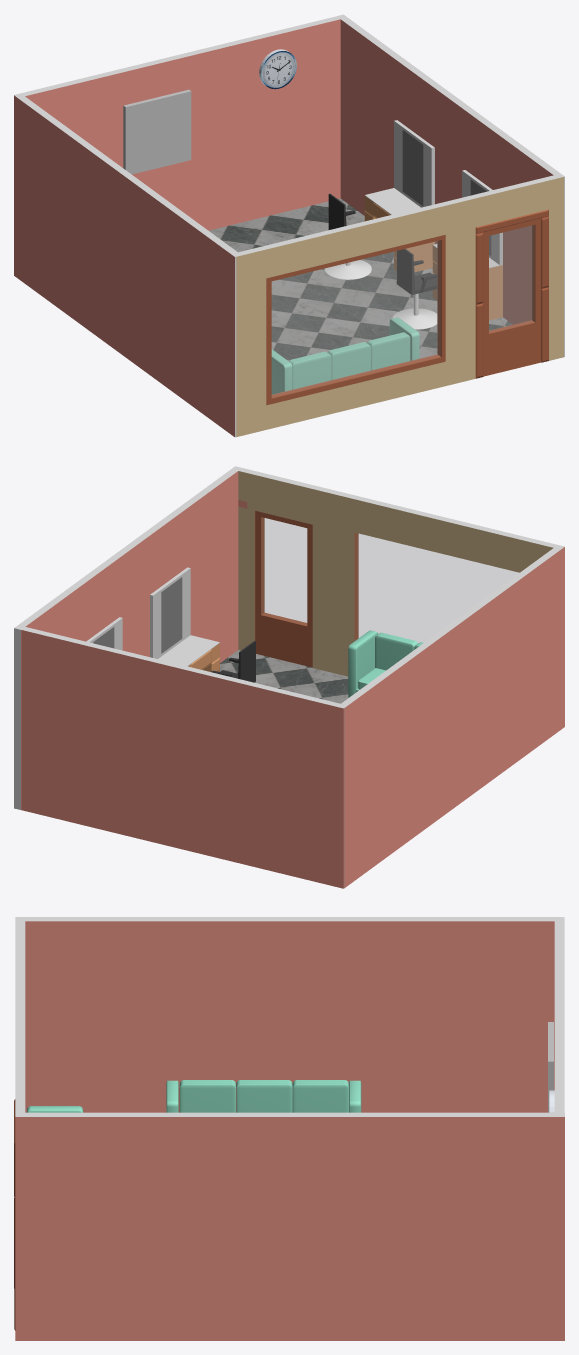
The model's file is Barber-ENV.fbx.
3 views of the same model, one above another, from view 1: azimuth 30°, elevation 25°; view 2: azimuth 150°, elevation 25°; view 3: azimuth 270°, elevation 25° (orthographic). The views are drawn at different scales.
Parts seen in each view (by area): view 1: Wall.002, WindowGlass, Salon-floor, Door, Sofa.001, Poster-salon, Mirror-table.001, Salon-chair, Mirror-table, Salon-chair.001, Wall-clock; view 2: Wall.002, WindowGlass, Door, Mirror-table, Salon-floor, Sofa.001, Salon-chair, Mirror-table.001; view 3: Wall.002, Sofa, WindowGlass.
Boxes of the visible parts, x1=… form: Wall.002: x1=14, y1=14, x2=564, y2=437; WindowGlass: x1=233, y1=175, x2=563, y2=436; Salon-floor: x1=209, y1=198, x2=512, y2=361; Door: x1=483, y1=218, x2=540, y2=376; Sofa.001: x1=271, y1=317, x2=419, y2=394; Poster-salon: x1=123, y1=89, x2=191, y2=174; Mirror-table.001: x1=364, y1=120, x2=434, y2=272; Salon-chair: x1=392, y1=249, x2=437, y2=329; Mirror-table: x1=432, y1=170, x2=502, y2=320; Salon-chair.001: x1=324, y1=193, x2=371, y2=279; Wall-clock: x1=259, y1=49, x2=296, y2=89; Wall.002: x1=14, y1=466, x2=564, y2=888; WindowGlass: x1=236, y1=466, x2=563, y2=676; Door: x1=255, y1=511, x2=312, y2=667; Mirror-table: x1=150, y1=567, x2=219, y2=671; Salon-floor: x1=220, y1=650, x2=348, y2=703; Sofa.001: x1=348, y1=630, x2=423, y2=697; Salon-chair: x1=211, y1=641, x2=255, y2=682; Mirror-table.001: x1=86, y1=617, x2=122, y2=650; Wall.002: x1=15, y1=917, x2=564, y2=1340; Sofa: x1=166, y1=1080, x2=361, y2=1112; WindowGlass: x1=14, y1=918, x2=25, y2=1330.
Size of the model in its own units: 419 by 219 by 489.
